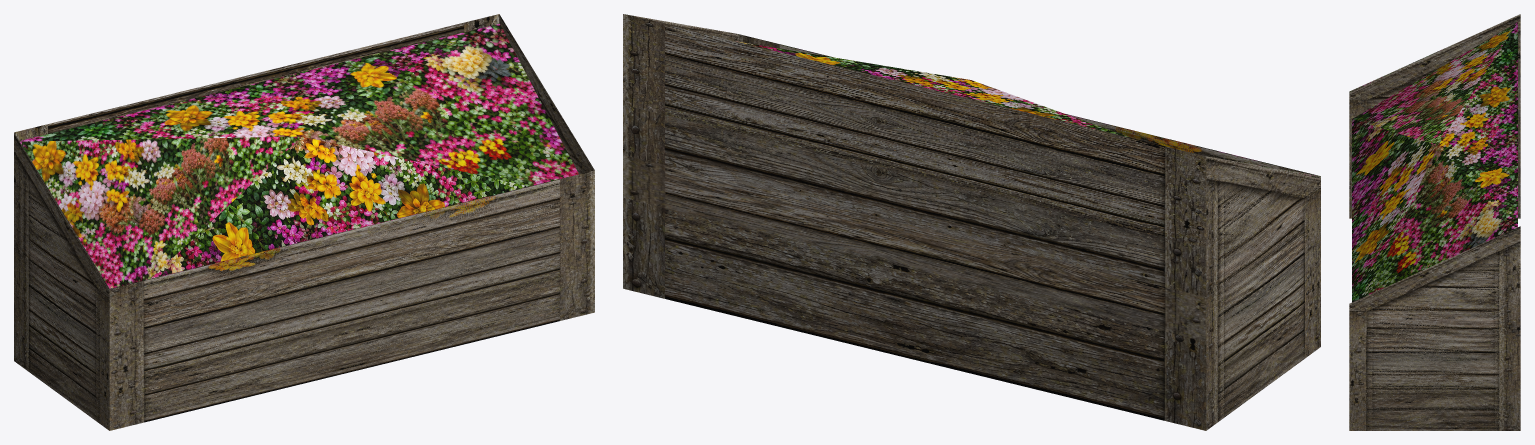
File: mm9_deco_flowerboxew.glb
3 views of the same model, side by side, from view 1: azimuth 30°, elevation 25°; view 2: azimuth 150°, elevation 25°; view 3: azimuth 270°, elevation 25° (orthographic). The views are drawn at different scales.
Visible parts, largest first — view 1: Flowerboxew; view 2: Flowerboxew; view 3: Flowerboxew.
Part boxes in pixels (left/top/right/bottom): Flowerboxew: left=14, top=14, right=594, bottom=430; Flowerboxew: left=623, top=14, right=1320, bottom=430; Flowerboxew: left=1349, top=14, right=1520, bottom=430.
Bounding box in the file's own units: 2.7 × 1.21 × 0.9196.
1 material, 1 textured.
